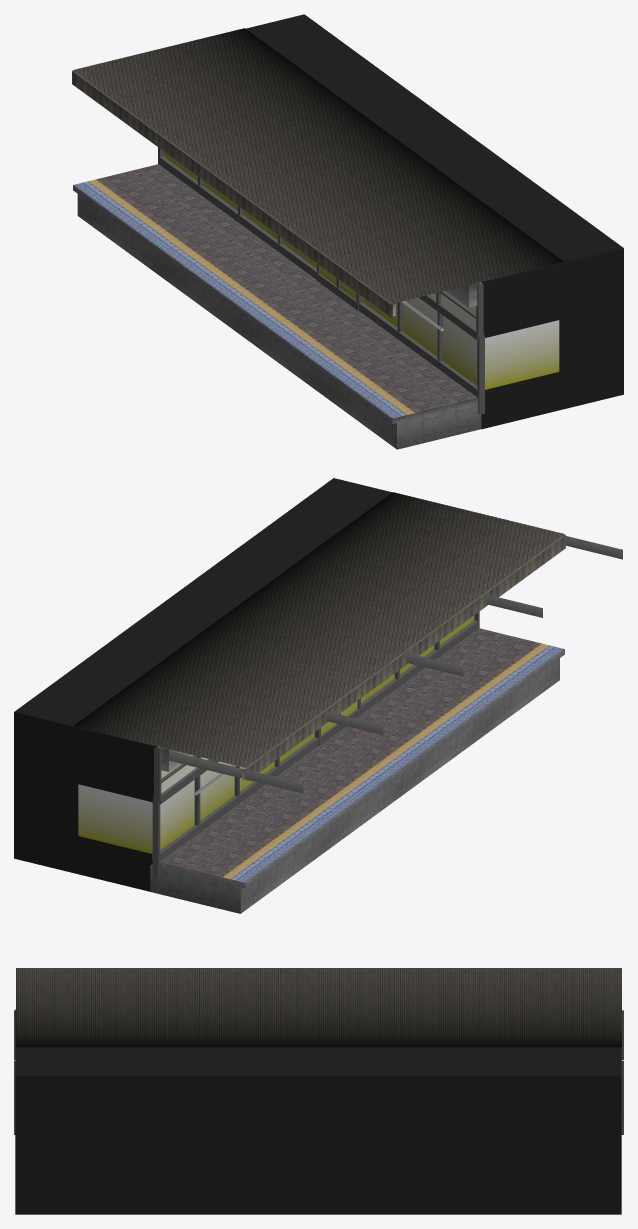
Rendered from AMB_SENTREA_HOME.glb.
3 renders of one model, top to bottom at view 1: azimuth 30°, elevation 25°; view 2: azimuth 150°, elevation 25°; view 3: azimuth 270°, elevation 25°, orthographic. The views are drawn at different scales.
Parts seen in each view (by area): view 1: J00; view 2: J00; view 3: J00.
Boxes of the visible parts, box(x1,y1,x2,y2) form: J00: box(72, 14, 623, 449); J00: box(14, 478, 622, 913); J00: box(14, 968, 623, 1214).
Size of the model in its own units: 52.31 by 25.42 by 101.
Materials: 12 (11 with a texture image).
